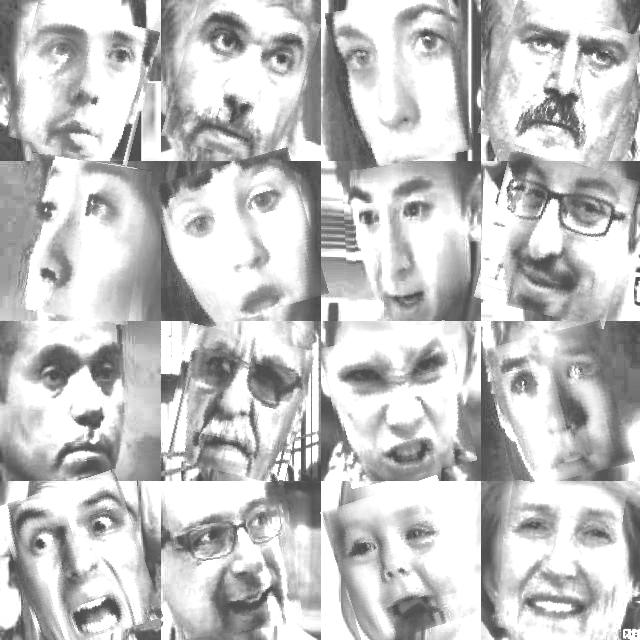angry: (486, 7, 638, 163), (327, 327, 470, 483), (344, 166, 462, 319)
fear: (160, 156, 320, 324), (6, 476, 152, 640)
happy: (482, 157, 632, 323), (329, 482, 471, 640), (170, 484, 298, 636), (498, 482, 622, 638)
neutral: (169, 0, 312, 162), (331, 0, 468, 165), (13, 156, 147, 321), (167, 330, 309, 480), (13, 8, 153, 160), (20, 326, 136, 479)
sad: (490, 327, 628, 485)
